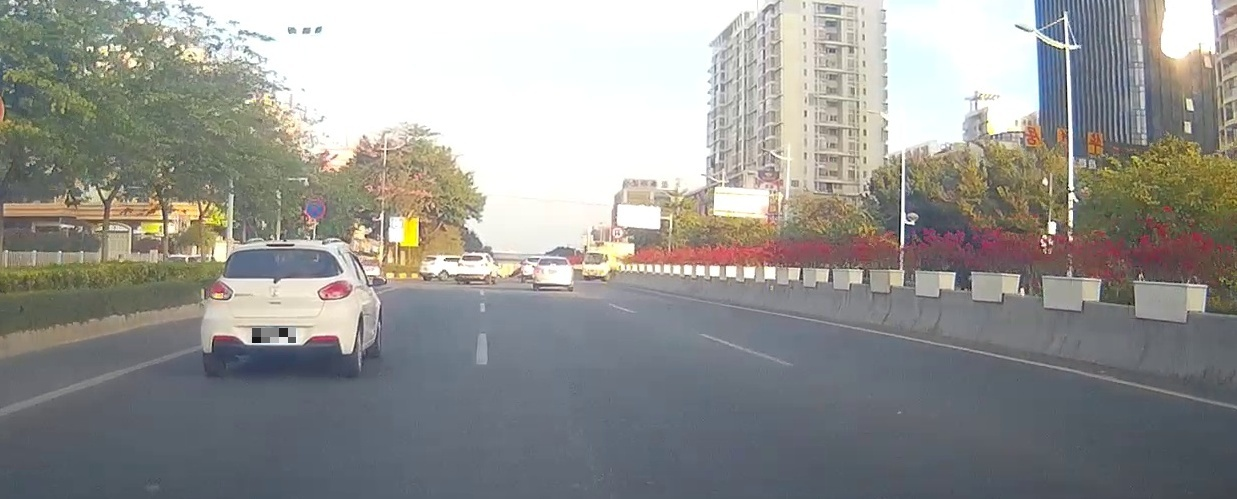L_light: (207, 280, 233, 301)
R_light: (317, 280, 353, 300)
T_light: (266, 243, 295, 247)
day-left: (199, 239, 354, 376)
plate_1: (252, 328, 296, 343)
